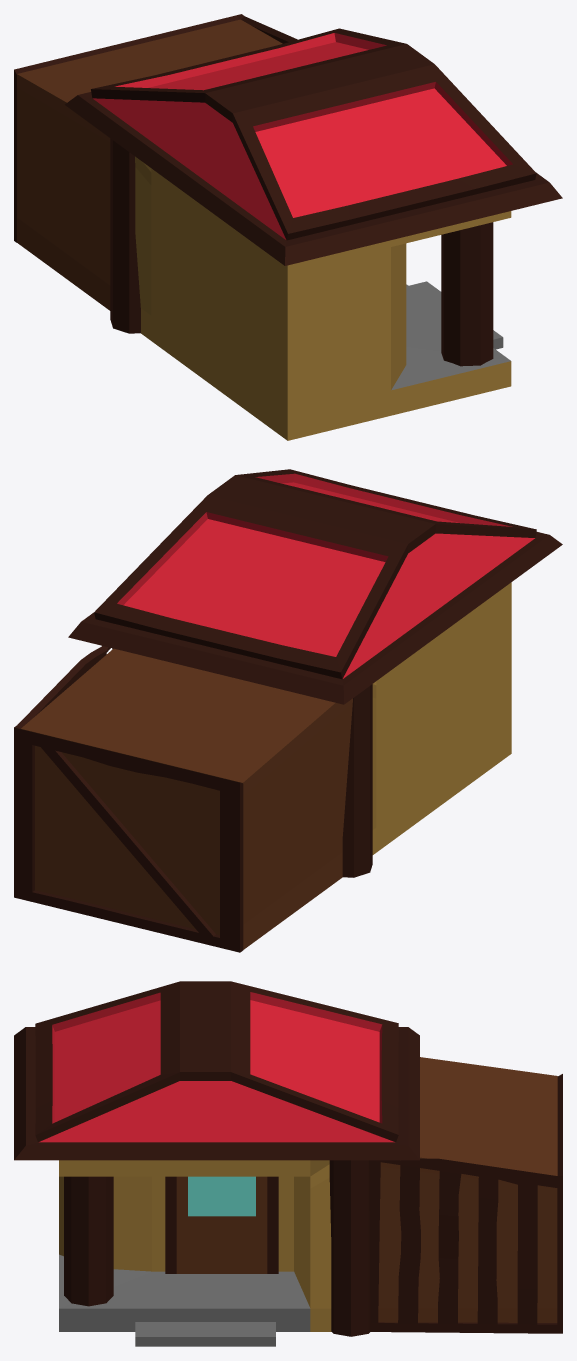
File: FarmHouse_04.fbx
The picture shows the model from 3 angles, top to bottom: view 1: azimuth 30°, elevation 25°; view 2: azimuth 150°, elevation 25°; view 3: azimuth 270°, elevation 25°; orthographic projection. The views are drawn at different scales.
Visible parts, largest first — view 1: House, Roof, Pillar2, Pillar3, SideFrame, Step; view 2: House, Roof, SideFrame, Pillar3; view 3: House, Roof, SideFrame, Pillar1, Pillar2, Step.
Part boxes in pixels (x1,y1,x2,y2): House: (17, 19, 511, 440); Roof: (65, 28, 562, 265); Pillar2: (441, 222, 493, 366); Pillar3: (110, 138, 140, 333); SideFrame: (14, 14, 297, 242); Step: (409, 281, 503, 349); House: (21, 582, 511, 949); Roof: (68, 469, 562, 704); SideFrame: (14, 646, 243, 952); Pillar3: (342, 684, 372, 877); House: (59, 1057, 557, 1331); Roof: (14, 981, 419, 1160); SideFrame: (369, 1074, 562, 1333); Pillar1: (329, 1160, 370, 1336); Pillar2: (64, 1176, 113, 1306); Step: (135, 1322, 275, 1346).
Bounding box in the file's own units: 1470 × 1369 × 2672.
